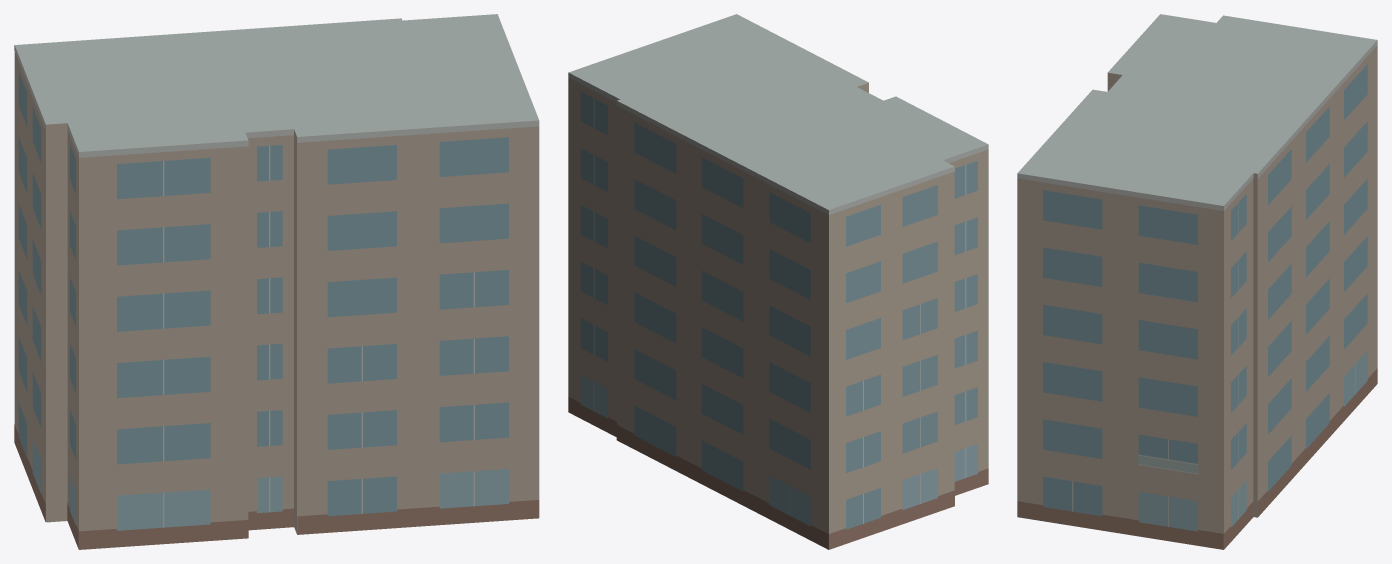
The model's file is survey-upis-32631100.glb.
The picture shows the model from 3 angles, left to right: view 1: azimuth 30°, elevation 25°; view 2: azimuth 150°, elevation 25°; view 3: azimuth 270°, elevation 25°; orthographic projection. The views are drawn at different scales.
Parts seen in each view (by area): view 1: survey-upis-32631100.tmp; view 2: survey-upis-32631100.tmp; view 3: survey-upis-32631100.tmp.
Boxes of the visible parts, left/top/right/bottom form: survey-upis-32631100.tmp: left=14, top=14, right=539, bottom=549; survey-upis-32631100.tmp: left=568, top=14, right=988, bottom=549; survey-upis-32631100.tmp: left=1017, top=14, right=1377, bottom=549.
Bounding box in the file's own units: 19.9 × 16.6 × 15.77.
